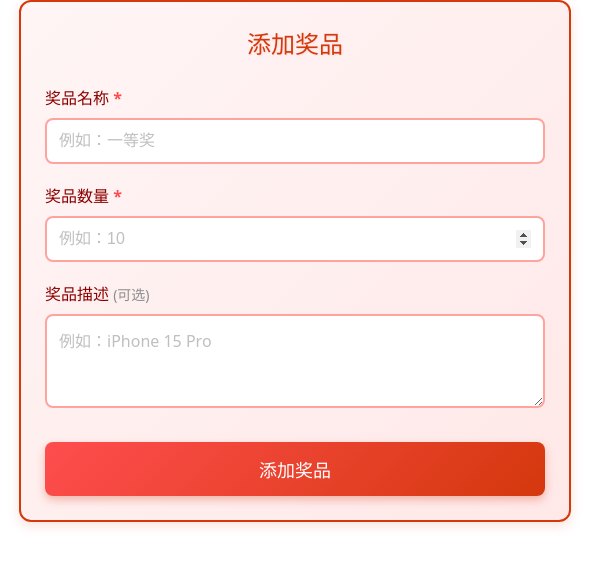
Test: PrizeConfigForm › 输入验证 - 奖品数量 (需求 1.3) › 应该拒绝空的奖品数量
Step 1. Type "一等奖" into the field labelled "奖品名称 *" → (295, 141), box x1=45 y1=118 x2=545 y2=164
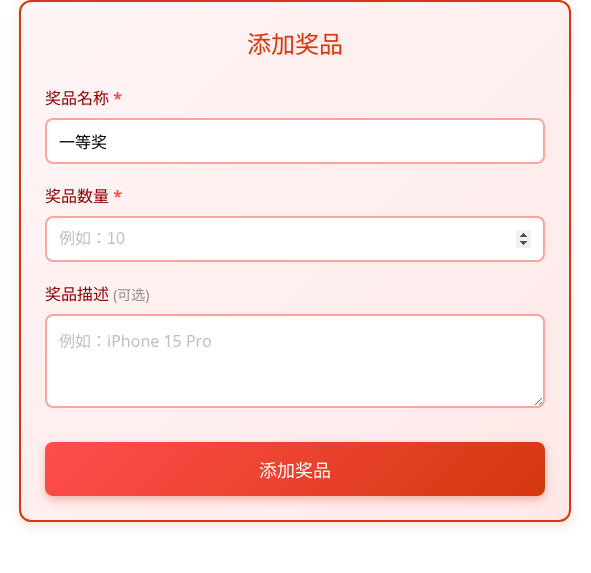
Step 2. Click the button "添加奖品" → (295, 469), box x1=45 y1=442 x2=545 y2=496
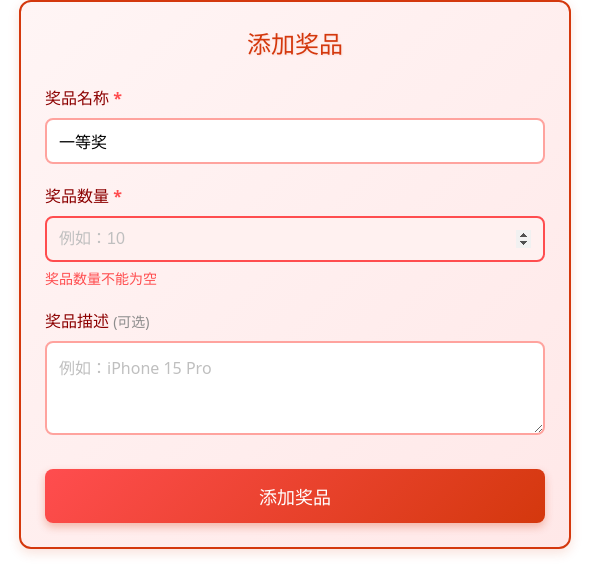
Expected: the text "奖品数量不能为空" is shown, x1=45 y1=269 x2=157 y2=288
